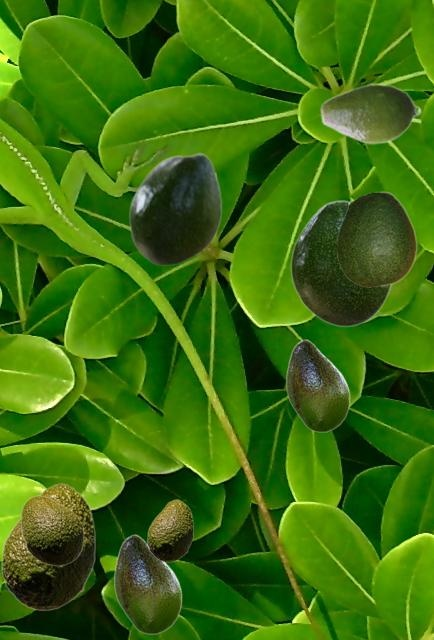avocado: (290, 200, 392, 326), (1, 483, 94, 610), (128, 152, 221, 265), (336, 191, 416, 286), (114, 534, 181, 633), (319, 82, 421, 144), (286, 339, 349, 431), (20, 495, 83, 565), (147, 499, 192, 561)
